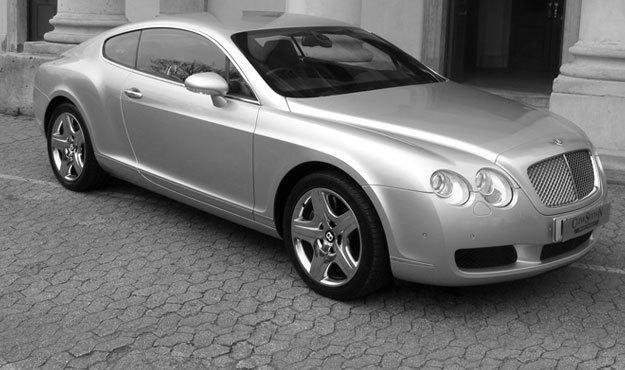car: (36, 13, 611, 302)
